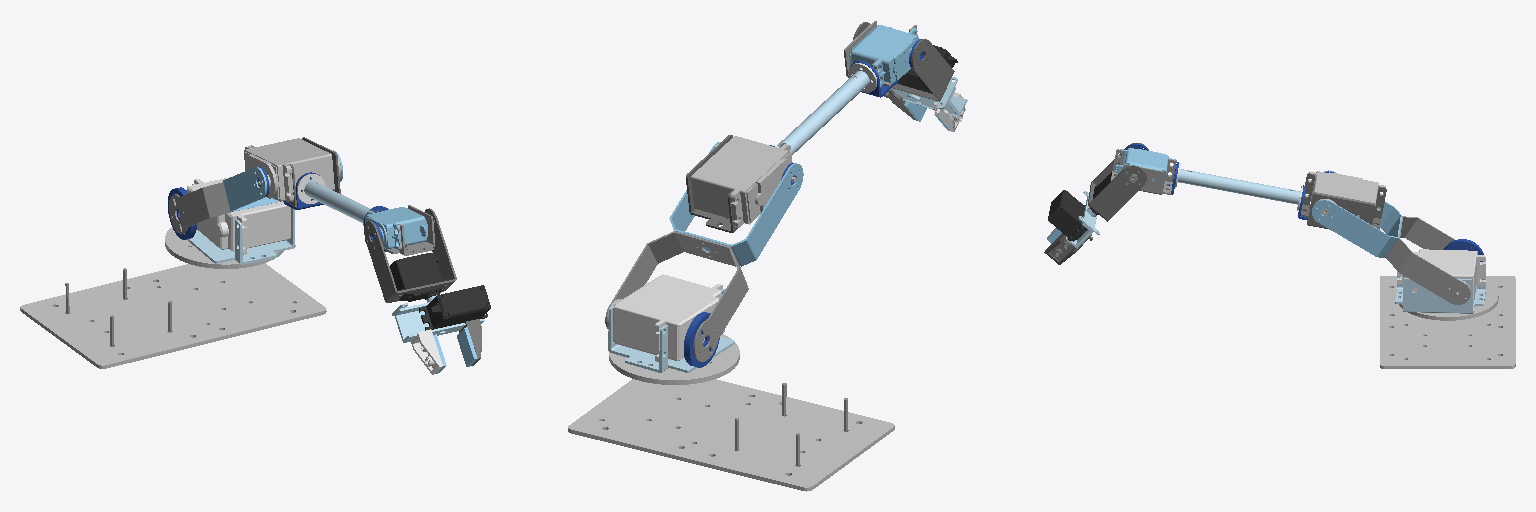
--- What the picture shows (computed from the rendered views, not written in the file) ---
The picture shows the robot from 3 angles, left to right: view 1: azimuth 30°, elevation 25°; view 2: azimuth 150°, elevation 25°; view 3: azimuth 270°, elevation 25°; orthographic projection.
Model onshape with 8 links and 7 joints (5 revolute, 2 prismatic), rooted at base_link, posed all joints at 0.
Links seen in each view (by area): view 1: base_link, elbow, shoulder, wrist, arm, hand, gripper_2, gripper_1; view 2: base_link, elbow, shoulder, arm, wrist, hand; view 3: base_link, elbow, arm, shoulder, wrist, hand, gripper_1.
Boxes of the visible links, bbox=[...] form: base_link: bbox=[20, 263, 326, 368]; elbow: bbox=[244, 137, 434, 255]; shoulder: bbox=[165, 177, 295, 268]; wrist: bbox=[364, 208, 456, 302]; arm: bbox=[168, 150, 342, 239]; hand: bbox=[392, 285, 490, 342]; gripper_2: bbox=[411, 329, 446, 374]; gripper_1: bbox=[457, 319, 481, 366]; base_link: bbox=[568, 379, 894, 491]; elbow: bbox=[686, 21, 918, 232]; shoulder: bbox=[608, 274, 739, 384]; arm: bbox=[605, 142, 803, 367]; wrist: bbox=[853, 22, 954, 101]; hand: bbox=[891, 45, 967, 117]; base_link: bbox=[1380, 276, 1515, 368]; elbow: bbox=[1111, 148, 1386, 229]; arm: bbox=[1312, 170, 1483, 304]; shoulder: bbox=[1395, 249, 1498, 320]; wrist: bbox=[1088, 143, 1148, 221]; hand: bbox=[1048, 190, 1099, 248]; gripper_1: bbox=[1044, 233, 1092, 264].
Bounding box of the posed robot: 0.202 × 0.4381 × 0.1912 m (x, y, z).
Meshes: 29 distinct files referenced, 37 mesh visuals loaded (28 binary STL); not drawn: 1 (reference not matched to a file when rendering).

URDF robot description (onshape):
<robot name="onshape">
	<link name="base_link">
		<visual>
			<origin xyz="0.129377 0.050859 -0.00371815" rpy="-4.77681e-10 -0.0043905 1.04863e-12" />
			<geometry>
				<mesh filename="package://urdf_tutorial/meshes/support-2.5.stl"/>
			</geometry>
			<material name="support-2.5_material">
				<color rgba="0.647059 0.647059 0.647059 1.0"/>
			</material>
		</visual>
		<collision>
			<origin xyz="0.129377 0.050859 -0.00371815" rpy="-4.77681e-10 -0.0043905 1.04863e-12" />
			<geometry>
				<mesh filename="package://urdf_tutorial/meshes/support-2.5.stl"/>
			</geometry>
			<material name="support-2.5_material">
				<color rgba="0.647059 0.647059 0.647059 1.0"/>
			</material>
		</collision>
		<visual>
			<origin xyz="0.129385 -0.017641 -0.00371812" rpy="-4.77681e-10 -0.0043905 1.04863e-12" />
			<geometry>
				<mesh filename="package://urdf_tutorial/meshes/support-2.5.stl"/>
			</geometry>
			<material name="support-2.5_material">
				<color rgba="0.647059 0.647059 0.647059 1.0"/>
			</material>
		</visual>
		<collision>
			<origin xyz="0.129385 -0.017641 -0.00371812" rpy="-4.77681e-10 -0.0043905 1.04863e-12" />
			<geometry>
				<mesh filename="package://urdf_tutorial/meshes/support-2.5.stl"/>
			</geometry>
			<material name="support-2.5_material">
				<color rgba="0.647059 0.647059 0.647059 1.0"/>
			</material>
		</collision>
		<visual>
			<origin xyz="0.0624688 0.148426 -0.00701195" rpy="-4.77681e-10 -0.0043905 1.04863e-12" />
			<geometry>
				<mesh filename="package://urdf_tutorial/meshes/base-plate.stl"/>
			</geometry>
			<material name="base-plate_material">
				<color rgba="0.8 0.8 0.8 1.0"/>
			</material>
		</visual>
		<collision>
			<origin xyz="0.0624688 0.148426 -0.00701195" rpy="-4.77681e-10 -0.0043905 1.04863e-12" />
			<geometry>
				<mesh filename="package://urdf_tutorial/meshes/base-plate.stl"/>
			</geometry>
			<material name="base-plate_material">
				<color rgba="0.8 0.8 0.8 1.0"/>
			</material>
		</collision>
		<visual>
			<origin xyz="0.0783857 -0.017641 -0.00394203" rpy="-4.77681e-10 -0.0043905 1.04863e-12" />
			<geometry>
				<mesh filename="package://urdf_tutorial/meshes/support-2.5.stl"/>
			</geometry>
			<material name="support-2.5_material">
				<color rgba="0.647059 0.647059 0.647059 1.0"/>
			</material>
		</visual>
		<collision>
			<origin xyz="0.0783857 -0.017641 -0.00394203" rpy="-4.77681e-10 -0.0043905 1.04863e-12" />
			<geometry>
				<mesh filename="package://urdf_tutorial/meshes/support-2.5.stl"/>
			</geometry>
			<material name="support-2.5_material">
				<color rgba="0.647059 0.647059 0.647059 1.0"/>
			</material>
		</collision>
		<visual>
			<origin xyz="0.0783779 0.0508616 -0.00394207" rpy="-4.77681e-10 -0.0043905 1.04863e-12" />
			<geometry>
				<mesh filename="package://urdf_tutorial/meshes/support-2.5.stl"/>
			</geometry>
			<material name="support-2.5_material">
				<color rgba="0.647059 0.647059 0.647059 1.0"/>
			</material>
		</visual>
		<collision>
			<origin xyz="0.0783779 0.0508616 -0.00394207" rpy="-4.77681e-10 -0.0043905 1.04863e-12" />
			<geometry>
				<mesh filename="package://urdf_tutorial/meshes/support-2.5.stl"/>
			</geometry>
			<material name="support-2.5_material">
				<color rgba="0.647059 0.647059 0.647059 1.0"/>
			</material>
		</collision>
		<visual>
			<origin xyz="0.0966582 -0.00779689 -0.00386181" rpy="1.5708 -0.0043905 1.04863e-12" />
			<geometry>
				<mesh filename="package://urdf_tutorial/meshes/br-ns-1.stl"/>
			</geometry>
			<material name="br-ns-1_material">
				<color rgba="0.917647 0.917647 0.917647 1.0"/>
			</material>
		</visual>
		<collision>
			<origin xyz="0.0966582 -0.00779689 -0.00386181" rpy="1.5708 -0.0043905 1.04863e-12" />
			<geometry>
				<mesh filename="package://urdf_tutorial/meshes/br-ns-1.stl"/>
			</geometry>
			<material name="br-ns-1_material">
				<color rgba="0.917647 0.917647 0.917647 1.0"/>
			</material>
		</collision>
		<inertial>
			<origin xyz="0.0862539 -0.00770233 0.0169319" rpy="0 0 0"/>
			<mass value="0.507728" />
			<inertia ixx="0.000663142" ixy="-2.83755e-06"  ixz="-0.000115853" iyy="0.00107904" iyz="-2.54152e-06" izz="0.00144317" />
		</inertial>
	</link>
	<link name="shoulder">
		<visual>
			<origin xyz="-0.0115013 0.0345591 -0.0296991" rpy="-3.14159 3.5506e-17 6.69028e-19" />
			<geometry>
				<mesh filename="package://urdf_tutorial/meshes/asb-201.stl"/>
			</geometry>
			<material name="asb-201_material">
				<color rgba="0.768627 0.886275 0.952941 1.0"/>
			</material>
		</visual>
		<collision>
			<origin xyz="-0.0115013 0.0345591 -0.0296991" rpy="-3.14159 3.5506e-17 6.69028e-19" />
			<geometry>
				<mesh filename="package://urdf_tutorial/meshes/asb-201.stl"/>
			</geometry>
			<material name="asb-201_material">
				<color rgba="0.768627 0.886275 0.952941 1.0"/>
			</material>
		</collision>
		<visual>
			<origin xyz="-0.0362093 0.0263471 -0.042939" rpy="1.5708 -1.27504e-16 1.5708" />
			<geometry>
				<mesh filename="package://urdf_tutorial/meshes/hs-805bb.stl"/>
			</geometry>
			<material name="hs-805bb_material">
				<color rgba="0.909804 0.909804 0.909804 1.0"/>
			</material>
		</visual>
		<collision>
			<origin xyz="-0.0362093 0.0263471 -0.042939" rpy="1.5708 -1.27504e-16 1.5708" />
			<geometry>
				<mesh filename="package://urdf_tutorial/meshes/hs-805bb.stl"/>
			</geometry>
			<material name="hs-805bb_material">
				<color rgba="0.909804 0.909804 0.909804 1.0"/>
			</material>
		</collision>
		<visual>
			<origin xyz="-2.77556e-17 -6.50521e-19 0.043307" rpy="-1.5708 -5.5768e-20 1.51857e-17" />
			<geometry>
				<mesh filename="package://urdf_tutorial/meshes/br-ns-2.stl"/>
			</geometry>
			<material name="br-ns-2_material">
				<color rgba="0.8 0.8 0.8 1.0"/>
			</material>
		</visual>
		<collision>
			<origin xyz="-2.77556e-17 -6.50521e-19 0.043307" rpy="-1.5708 -5.5768e-20 1.51857e-17" />
			<geometry>
				<mesh filename="package://urdf_tutorial/meshes/br-ns-2.stl"/>
			</geometry>
			<material name="br-ns-2_material">
				<color rgba="0.8 0.8 0.8 1.0"/>
			</material>
		</collision>
		<inertial>
			<origin xyz="-0.00194627 -0.000935653 -0.00405395" rpy="0 0 0"/>
			<mass value="0.287977" />
			<inertia ixx="0.000156044" ixy="-3.26542e-06"  ixz="-8.14834e-06" iyy="0.000160924" iyz="-2.16392e-06" izz="0.000302076" />
		</inertial>
	</link>
	<link name="arm">
		<visual>
			<origin xyz="-3.67761e-16 0.0639719 0.034306" rpy="-1.5708 -4.35975e-16 5.98102e-17" />
			<geometry>
				<mesh filename="package://urdf_tutorial/meshes/asb-202.stl"/>
			</geometry>
			<material name="asb-202_material">
				<color rgba="0.647059 0.647059 0.647059 1.0"/>
			</material>
		</visual>
		<collision>
			<origin xyz="-3.67761e-16 0.0639719 0.034306" rpy="-1.5708 -4.35975e-16 5.98102e-17" />
			<geometry>
				<mesh filename="package://urdf_tutorial/meshes/asb-202.stl"/>
			</geometry>
			<material name="asb-202_material">
				<color rgba="0.647059 0.647059 0.647059 1.0"/>
			</material>
		</collision>
		<visual>
			<origin xyz="9.71445e-17 1.2837e-16 0.071106" rpy="-1.5708 -1.5708 0" />
			<geometry>
				<mesh filename="package://urdf_tutorial/meshes/shoulder-horn.stl"/>
			</geometry>
			<material name="shoulder-horn_material">
				<color rgba="0.231373 0.380392 0.705882 1.0"/>
			</material>
		</visual>
		<collision>
			<origin xyz="9.71445e-17 1.2837e-16 0.071106" rpy="-1.5708 -1.5708 0" />
			<geometry>
				<mesh filename="package://urdf_tutorial/meshes/shoulder-horn.stl"/>
			</geometry>
			<material name="shoulder-horn_material">
				<color rgba="0.231373 0.380392 0.705882 1.0"/>
			</material>
		</collision>
		<visual>
			<origin xyz="1.38778e-17 0 -0.0015" rpy="-1.5708 -1.5708 0" />
			<geometry>
				<mesh filename="package://urdf_tutorial/meshes/panel-2.stl"/>
			</geometry>
			<material name="panel-2_material">
				<color rgba="0.8 0.8 0.8 1.0"/>
			</material>
		</visual>
		<collision>
			<origin xyz="1.38778e-17 0 -0.0015" rpy="-1.5708 -1.5708 0" />
			<geometry>
				<mesh filename="package://urdf_tutorial/meshes/panel-2.stl"/>
			</geometry>
			<material name="panel-2_material">
				<color rgba="0.8 0.8 0.8 1.0"/>
			</material>
		</collision>
		<visual>
			<origin xyz="0.0123063 0.0732524 0.0009685" rpy="3.14159 4.44977e-16 3.14159" />
			<geometry>
				<mesh filename="package://urdf_tutorial/meshes/asb-203.stl"/>
			</geometry>
			<material name="asb-203_material">
				<color rgba="0.615686 0.811765 0.929412 1.0"/>
			</material>
		</visual>
		<collision>
			<origin xyz="0.0123063 0.0732524 0.0009685" rpy="3.14159 4.44977e-16 3.14159" />
			<geometry>
				<mesh filename="package://urdf_tutorial/meshes/asb-203.stl"/>
			</geometry>
			<material name="asb-203_material">
				<color rgba="0.615686 0.811765 0.929412 1.0"/>
			</material>
		</collision>
		<visual>
			<origin xyz="-4.05231e-15 0.146277 0.0660687" rpy="1.5708 5.01771e-16 -3.14159" />
			<geometry>
				<mesh filename="package://urdf_tutorial/meshes/arm-horn.stl"/>
			</geometry>
			<material name="arm-horn_material">
				<color rgba="0.231373 0.380392 0.705882 1.0"/>
			</material>
		</visual>
		<collision>
			<origin xyz="-4.05231e-15 0.146277 0.0660687" rpy="1.5708 5.01771e-16 -3.14159" />
			<geometry>
				<mesh filename="package://urdf_tutorial/meshes/arm-horn.stl"/>
			</geometry>
			<material name="arm-horn_material">
				<color rgba="0.231373 0.380392 0.705882 1.0"/>
			</material>
		</collision>
		<inertial>
			<origin xyz="4.10817e-12 0.0597549 0.0409192" rpy="0 0 0"/>
			<mass value="0.05596" />
			<inertia ixx="0.000191971" ixy="-1.1249e-14"  ixz="-2.56258e-15" iyy="6.11521e-05" iyz="1.55625e-05" izz="0.000137269" />
		</inertial>
	</link>
	<link name="elbow">
		<visual>
			<origin xyz="-0.140995 -0.021336 -0.0321592" rpy="-1.7746e-16 2.26527e-17 6.1898e-16" />
			<geometry>
				<mesh filename="package://urdf_tutorial/meshes/asb-06.stl"/>
			</geometry>
			<material name="asb-06_material">
				<color rgba="0.231373 0.380392 0.705882 1.0"/>
			</material>
		</visual>
		<collision>
			<origin xyz="-0.140995 -0.021336 -0.0321592" rpy="-1.7746e-16 2.26527e-17 6.1898e-16" />
			<geometry>
				<mesh filename="package://urdf_tutorial/meshes/asb-06.stl"/>
			</geometry>
			<material name="asb-06_material">
				<color rgba="0.231373 0.380392 0.705882 1.0"/>
			</material>
		</collision>
		<visual>
			<origin xyz="-0.0220726 -0.01905 -0.003" rpy="-2.06035e-16 8.29434e-18 9.33089e-17" />
			<geometry>
				<mesh filename="package://urdf_tutorial/meshes/asb-204.stl"/>
			</geometry>
			<material name="asb-204_material">
				<color rgba="0.498039 0.498039 0.498039 1.0"/>
			</material>
		</visual>
		<collision>
			<origin xyz="-0.0220726 -0.01905 -0.003" rpy="-2.06035e-16 8.29434e-18 9.33089e-17" />
			<geometry>
				<mesh filename="package://urdf_tutorial/meshes/asb-204.stl"/>
			</geometry>
			<material name="asb-204_material">
				<color rgba="0.498039 0.498039 0.498039 1.0"/>
			</material>
		</collision>
		<visual>
			<origin xyz="0 2.77556e-17 -0.0015" rpy="-1.5708 -1.5708 0" />
			<geometry>
				<mesh filename="package://urdf_tutorial/meshes/panel-2.stl"/>
			</geometry>
			<material name="panel-2_material">
				<color rgba="0.8 0.8 0.8 1.0"/>
			</material>
		</visual>
		<collision>
			<origin xyz="0 2.77556e-17 -0.0015" rpy="-1.5708 -1.5708 0" />
			<geometry>
				<mesh filename="package://urdf_tutorial/meshes/panel-2.stl"/>
			</geometry>
			<material name="panel-2_material">
				<color rgba="0.8 0.8 0.8 1.0"/>
			</material>
		</collision>
		<visual>
			<origin xyz="-0.0251079 -0.0060198 -0.0321592" rpy="3.14159 1.5708 0" />
			<geometry>
				<mesh filename="package://urdf_tutorial/meshes/at-03.stl"/>
			</geometry>
			<material name="at-03_material">
				<color rgba="0.768627 0.886275 0.952941 1.0"/>
			</material>
		</visual>
		<collision>
			<origin xyz="-0.0251079 -0.0060198 -0.0321592" rpy="3.14159 1.5708 0" />
			<geometry>
				<mesh filename="package://urdf_tutorial/meshes/at-03.stl"/>
			</geometry>
			<material name="at-03_material">
				<color rgba="0.768627 0.886275 0.952941 1.0"/>
			</material>
		</collision>
		<visual>
			<origin xyz="-0.0219329 -0.0060198 -0.0321592" rpy="-1.5708 1.5708 0" />
			<geometry>
				<mesh filename="package://urdf_tutorial/meshes/hub-08.stl"/>
			</geometry>
			<material name="hub-08_material">
				<color rgba="0.917647 0.917647 0.917647 1.0"/>
			</material>
		</visual>
		<collision>
			<origin xyz="-0.0219329 -0.0060198 -0.0321592" rpy="-1.5708 1.5708 0" />
			<geometry>
				<mesh filename="package://urdf_tutorial/meshes/hub-08.stl"/>
			</geometry>
			<material name="hub-08_material">
				<color rgba="0.917647 0.917647 0.917647 1.0"/>
			</material>
		</collision>
		<visual>
			<origin xyz="-0.151124 0.00554557 -0.0162697" rpy="-1.5708 1.5708 0" />
			<geometry>
				<mesh filename="package://urdf_tutorial/meshes/elbow_hs-422.stl"/>
			</geometry>
			<material name="elbow_hs-422_material">
				<color rgba="0.611765 0.811765 0.921569 1.0"/>
			</material>
		</visual>
		<collision>
			<origin xyz="-0.151124 0.00554557 -0.0162697" rpy="-1.5708 1.5708 0" />
			<geometry>
				<mesh filename="package://urdf_tutorial/meshes/elbow_hs-422.stl"/>
			</geometry>
			<material name="elbow_hs-422_material">
				<color rgba="0.611765 0.811765 0.921569 1.0"/>
			</material>
		</collision>
		<visual>
			<origin xyz="-0.151123 0.0055458 -0.0161419" rpy="-1.5708 1.5708 0" />
			<geometry>
				<mesh filename="package://urdf_tutorial/meshes/motor-gear.stl"/>
			</geometry>
			<material name="motor-gear_material">
				<color rgba="0.917647 0.917647 0.917647 1.0"/>
			</material>
		</visual>
		<collision>
			<origin xyz="-0.151123 0.0055458 -0.0161419" rpy="-1.5708 1.5708 0" />
			<geometry>
				<mesh filename="package://urdf_tutorial/meshes/motor-gear.stl"/>
			</geometry>
			<material name="motor-gear_material">
				<color rgba="0.917647 0.917647 0.917647 1.0"/>
			</material>
		</collision>
		<visual>
			<origin xyz="-0.0235204 -0.021336 -0.0321592" rpy="-3.14159 -1.69693e-17 3.14159" />
			<geometry>
				<mesh filename="package://urdf_tutorial/meshes/asb-06.stl"/>
			</geometry>
			<material name="asb-06_material">
				<color rgba="0.231373 0.380392 0.705882 1.0"/>
			</material>
		</visual>
		<collision>
			<origin xyz="-0.0235204 -0.021336 -0.0321592" rpy="-3.14159 -1.69693e-17 3.14159" />
			<geometry>
				<mesh filename="package://urdf_tutorial/meshes/asb-06.stl"/>
			</geometry>
			<material name="asb-06_material">
				<color rgba="0.231373 0.380392 0.705882 1.0"/>
			</material>
		</collision>
		<visual>
			<origin xyz="-0.181889 -0.0047752 -0.0083594" rpy="3.14159 -1.5708 0" />
			<geometry>
				<mesh filename="package://urdf_tutorial/meshes/panel-1.stl"/>
			</geometry>
			<material name="panel-1_material">
				<color rgba="0.231373 0.380392 0.705882 1.0"/>
			</material>
		</visual>
		<collision>
			<origin xyz="-0.181889 -0.0047752 -0.0083594" rpy="3.14159 -1.5708 0" />
			<geometry>
				<mesh filename="package://urdf_tutorial/meshes/panel-1.stl"/>
			</geometry>
			<material name="panel-1_material">
				<color rgba="0.231373 0.380392 0.705882 1.0"/>
			</material>
		</collision>
		<visual>
			<origin xyz="-0.171958 -0.01905 -0.0267363" rpy="-1.78433e-16 2.26395e-17 6.46309e-16" />
			<geometry>
				<mesh filename="package://urdf_tutorial/meshes/asb-04.stl"/>
			</geometry>
			<material name="asb-04_material">
				<color rgba="0.647059 0.647059 0.647059 1.0"/>
			</material>
		</visual>
		<collision>
			<origin xyz="-0.171958 -0.01905 -0.0267363" rpy="-1.78433e-16 2.26395e-17 6.46309e-16" />
			<geometry>
				<mesh filename="package://urdf_tutorial/meshes/asb-04.stl"/>
			</geometry>
			<material name="asb-04_material">
				<color rgba="0.647059 0.647059 0.647059 1.0"/>
			</material>
		</collision>
		<visual>
			<origin xyz="0.0157732 1.27e-05 -0.0306998" rpy="3.14159 4.98931e-16 -1.5708" />
			<geometry>
				<mesh filename="package://urdf_tutorial/meshes/hs-645mg.stl"/>
			</geometry>
			<material name="hs-645mg_material">
				<color rgba="0.8 0.8 0.8 1.0"/>
			</material>
		</visual>
		<collision>
			<origin xyz="0.0157732 1.27e-05 -0.0306998" rpy="3.14159 4.98931e-16 -1.5708" />
			<geometry>
				<mesh filename="package://urdf_tutorial/meshes/hs-645mg.stl"/>
			</geometry>
			<material name="hs-645mg_material">
				<color rgba="0.8 0.8 0.8 1.0"/>
			</material>
		</collision>
		<visual>
			<origin xyz="-0.142583 -0.0060198 -0.0321592" rpy="1.5708 1.5708 0" />
			<geometry>
				<mesh filename="package://urdf_tutorial/meshes/hub-08.stl"/>
			</geometry>
			<material name="hub-08_material">
				<color rgba="0.917647 0.917647 0.917647 1.0"/>
			</material>
		</visual>
		<collision>
			<origin xyz="-0.142583 -0.0060198 -0.0321592" rpy="1.5708 1.5708 0" />
			<geometry>
				<mesh filename="package://urdf_tutorial/meshes/hub-08.stl"/>
			</geometry>
			<material name="hub-08_material">
				<color rgba="0.917647 0.917647 0.917647 1.0"/>
			</material>
		</collision>
		<inertial>
			<origin xyz="-0.0337839 -0.00178522 -0.0316901" rpy="0 0 0"/>
			<mass value="0.988791" />
			<inertia ixx="0.000274252" ixy="-0.000173704"  ixz="2.79546e-05" iyy="0.00692373" iyz="3.00662e-06" izz="0.00682311" />
		</inertial>
	</link>
	<link name="wrist">
		<visual>
			<origin xyz="0.047276 3.375e-05 0.0230885" rpy="-6.08266e-16 1.5708 0" />
			<geometry>
				<mesh filename="package://urdf_tutorial/meshes/hs-225mg.stl"/>
			</geometry>
			<material name="hs-225mg_material">
				<color rgba="0.25098 0.25098 0.25098 1.0"/>
			</material>
		</visual>
		<collision>
			<origin xyz="0.047276 3.375e-05 0.0230885" rpy="-6.08266e-16 1.5708 0" />
			<geometry>
				<mesh filename="package://urdf_tutorial/meshes/hs-225mg.stl"/>
			</geometry>
			<material name="hs-225mg_material">
				<color rgba="0.25098 0.25098 0.25098 1.0"/>
			</material>
		</collision>
		<visual>
			<origin xyz="0.049276 5.55112e-17 0.0230999" rpy="3.14159 1.5708 0" />
			<geometry>
				<mesh filename="package://urdf_tutorial/meshes/asb-26.stl"/>
			</geometry>
			<material name="asb-26_material">
				<color rgba="0.501961 0.501961 0.501961 1.0"/>
			</material>
		</visual>
		<collision>
			<origin xyz="0.049276 5.55112e-17 0.0230999" rpy="3.14159 1.5708 0" />
			<geometry>
				<mesh filename="package://urdf_tutorial/meshes/asb-26.stl"/>
			</geometry>
			<material name="asb-26_material">
				<color rgba="0.501961 0.501961 0.501961 1.0"/>
			</material>
		</collision>
		<visual>
			<origin xyz="-1.04083e-15 -5.55112e-17 0.0468298" rpy="-4.34694e-15 1.5708 0" />
			<geometry>
				<mesh filename="package://urdf_tutorial/meshes/bb-03.stl"/>
			</geometry>
			<material name="bb-03_material">
				<color rgba="0.647059 0.647059 0.647059 1.0"/>
			</material>
		</visual>
		<collision>
			<origin xyz="-1.04083e-15 -5.55112e-17 0.0468298" rpy="-4.34694e-15 1.5708 0" />
			<geometry>
				<mesh filename="package://urdf_tutorial/meshes/bb-03.stl"/>
			</geometry>
			<material name="bb-03_material">
				<color rgba="0.647059 0.647059 0.647059 1.0"/>
			</material>
		</collision>
		<visual>
			<origin xyz="-9.99201e-16 -5.55112e-17 0.0468298" rpy="1.3162e-15 -1.5708 0" />
			<geometry>
				<mesh filename="package://urdf_tutorial/meshes/panel-1.stl"/>
			</geometry>
			<material name="panel-1_material">
				<color rgba="0.231373 0.380392 0.705882 1.0"/>
			</material>
		</visual>
		<collision>
			<origin xyz="-9.99201e-16 -5.55112e-17 0.0468298" rpy="1.3162e-15 -1.5708 0" />
			<geometry>
				<mesh filename="package://urdf_tutorial/meshes/panel-1.stl"/>
			</geometry>
			<material name="panel-1_material">
				<color rgba="0.231373 0.380392 0.705882 1.0"/>
			</material>
		</collision>
		<visual>
			<origin xyz="-2.77556e-17 -5.55112e-17 -0.0015" rpy="-1.5708 3.33236e-19 2.47402e-18" />
			<geometry>
				<mesh filename="package://urdf_tutorial/meshes/arm-horn.stl"/>
			</geometry>
			<material name="arm-horn_material">
				<color rgba="0.231373 0.380392 0.705882 1.0"/>
			</material>
		</visual>
		<collision>
			<origin xyz="-2.77556e-17 -5.55112e-17 -0.0015" rpy="-1.5708 3.33236e-19 2.47402e-18" />
			<geometry>
				<mesh filename="package://urdf_tutorial/meshes/arm-horn.stl"/>
			</geometry>
			<material name="arm-horn_material">
				<color rgba="0.231373 0.380392 0.705882 1.0"/>
			</material>
		</collision>
		<inertial>
			<origin xyz="0.0371882 2.99797e-05 0.0234571" rpy="0 0 0"/>
			<mass value="0.154675" />
			<inertia ixx="2.65283e-05" ixy="-9.07924e-09"  ixz="1.70133e-07" iyy="4.52632e-05" iyz="3.61213e-10" izz="2.66908e-05" />
		</inertial>
	</link>
	<link name="hand">
		<visual>
			<origin xyz="0.0103124 0.0004318 -0.0163031" rpy="-3.14159 9.05092e-15 -7.19119e-15" />
			<geometry>
				<mesh filename="package://urdf_tutorial/meshes/hs-422.stl"/>
			</geometry>
			<material name="hs-422_material">
				<color rgba="0.25098 0.25098 0.25098 1.0"/>
			</material>
		</visual>
		<collision>
			<origin xyz="0.0103124 0.0004318 -0.0163031" rpy="-3.14159 9.05092e-15 -7.19119e-15" />
			<geometry>
				<mesh filename="package://urdf_tutorial/meshes/hs-422.stl"/>
			</geometry>
			<material name="hs-422_material">
				<color rgba="0.25098 0.25098 0.25098 1.0"/>
			</material>
		</collision>
		<visual>
			<origin xyz="0.007495 -5.55112e-17 -0.01259" rpy="-3.56478e-18 -4.42358e-18 -1.9427e-17" />
			<geometry>
				<mesh filename="package://urdf_tutorial/meshes/horn.stl"/>
			</geometry>
			<material name="horn_material">
				<color rgba="0.917647 0.917647 0.917647 1.0"/>
			</material>
		</visual>
		<collision>
			<origin xyz="0.007495 -5.55112e-17 -0.01259" rpy="-3.56478e-18 -4.42358e-18 -1.9427e-17" />
			<geometry>
				<mesh filename="package://urdf_tutorial/meshes/horn.stl"/>
			</geometry>
			<material name="horn_material">
				<color rgba="0.917647 0.917647 0.917647 1.0"/>
			</material>
		</collision>
		<visual>
			<origin xyz="-1.38778e-17 -0.0064008 -0.004327" rpy="7.39067e-15 1.5708 0" />
			<geometry>
				<mesh filename="package://urdf_tutorial/meshes/lg-ns.stl"/>
			</geometry>
			<material name="lg-ns_material">
				<color rgba="0.768627 0.886275 0.952941 1.0"/>
			</material>
		</visual>
		<collision>
			<origin xyz="-1.38778e-17 -0.0064008 -0.004327" rpy="7.39067e-15 1.5708 0" />
			<geometry>
				<mesh filename="package://urdf_tutorial/meshes/lg-ns.stl"/>
			</geometry>
			<material name="lg-ns_material">
				<color rgba="0.768627 0.886275 0.952941 1.0"/>
			</material>
		</collision>
		<inertial>
			<origin xyz="0.00960774 -0.0141472 -0.0162191" rpy="0 0 0"/>
			<mass value="0.240847" />
			<inertia ixx="3.5712e-05" ixy="2.38823e-06"  ixz="1.94278e-07" iyy="4.58615e-05" iyz="-3.46234e-07" izz="6.50569e-05" />
		</inertial>
	</link>
	<link name="gripper_2">
		<visual>
			<origin xyz="0.0032004 -0.000508 -0.003683" rpy="-7.33092e-18 2.74516e-18 2.93831e-17" />
			<geometry>
				<mesh filename="package://urdf_tutorial/meshes/left-finger.stl"/>
			</geometry>
			<material name="left-finger_material">
				<color rgba="0.917647 0.917647 0.917647 1.0"/>
			</material>
		</visual>
		<collision>
			<origin xyz="0.0032004 -0.000508 -0.003683" rpy="-7.33092e-18 2.74516e-18 2.93831e-17" />
			<geometry>
				<mesh filename="package://urdf_tutorial/meshes/left-finger.stl"/>
			</geometry>
			<material name="left-finger_material">
				<color rgba="0.917647 0.917647 0.917647 1.0"/>
			</material>
		</collision>
		<visual>
			<origin xyz="-0.00139907 -0.134736 -0.005715" rpy="-3.14159 1.24915e-15 3.14159" />
			<geometry>
				<mesh filename="package://urdf_tutorial/meshes/finger_sensor.stl"/>
			</geometry>
			<material name="finger_sensor_material">
				<color rgba="0.615686 0.811765 0.929412 1.0"/>
			</material>
		</visual>
		<collision>
			<origin xyz="-0.00139907 -0.134736 -0.005715" rpy="-3.14159 1.24915e-15 3.14159" />
			<geometry>
				<mesh filename="package://urdf_tutorial/meshes/finger_sensor.stl"/>
			</geometry>
			<material name="finger_sensor_material">
				<color rgba="0.615686 0.811765 0.929412 1.0"/>
			</material>
		</collision>
		<inertial>
			<origin xyz="0.0120044 0.0057694 -0.00312431" rpy="0 0 0"/>
			<mass value="0.00612803" />
			<inertia ixx="3.22025e-07" ixy="-8.1681e-08"  ixz="1.05444e-07" iyy="7.04545e-07" iyz="1.48751e-08" izz="8.67139e-07" />
		</inertial>
	</link>
	<joint name="gripper_1" type="prismatic">
		<origin xyz="-0.0189744 0.0064008 -0.0272124" rpy="-3.14159 1.5708 0" />
		<parent link="hand" />
		<child link="gripper_2" />
		<axis xyz="0 0 1"/>
		<limit effort="1" velocity="20" lower="-0.05" upper="0.05"/>
		<joint_properties friction="0.0"/>
	</joint>
	<link name="gripper_1">
		<visual>
			<origin xyz="0.0032004 -0.013462 -0.003683" rpy="-1.1719e-17 3.92532e-18 3.64581e-17" />
			<geometry>
				<mesh filename="package://urdf_tutorial/meshes/right-finger.stl"/>
			</geometry>
			<material name="right-finger_material">
				<color rgba="0.498039 0.498039 0.498039 1.0"/>
			</material>
		</visual>
		<collision>
			<origin xyz="0.0032004 -0.013462 -0.003683" rpy="-1.1719e-17 3.92532e-18 3.64581e-17" />
			<geometry>
				<mesh filename="package://urdf_tutorial/meshes/right-finger.stl"/>
			</geometry>
			<material name="right-finger_material">
				<color rgba="0.498039 0.498039 0.498039 1.0"/>
			</material>
		</collision>
		<visual>
			<origin xyz="0.0347548 -0.147534 -0.008715" rpy="2.96466e-15 1.04137e-13 -3.39025e-15" />
			<geometry>
				<mesh filename="package://urdf_tutorial/meshes/finger_sensor.stl"/>
			</geometry>
			<material name="finger_sensor_material">
				<color rgba="0.615686 0.811765 0.929412 1.0"/>
			</material>
		</visual>
		<collision>
			<origin xyz="0.0347548 -0.147534 -0.008715" rpy="2.96466e-15 1.04137e-13 -3.39025e-15" />
			<geometry>
				<mesh filename="package://urdf_tutorial/meshes/finger_sensor.stl"/>
			</geometry>
			<material name="finger_sensor_material">
				<color rgba="0.615686 0.811765 0.929412 1.0"/>
			</material>
		</collision>
		<inertial>
			<origin xyz="0.0119806 -0.00576922 -0.00312446" rpy="0 0 0"/>
			<mass value="0.00612793" />
			<inertia ixx="3.22007e-07" ixy="8.32603e-08"  ixz="1.06055e-07" iyy="7.11265e-07" iyz="-1.48845e-08" izz="8.73856e-07" />
		</inertial>
	</link>
	<joint name="gripper_2" type="prismatic">
		<origin xyz="0.0217646 0.0064008 -0.0272124" rpy="1.08934e-14 1.5708 0" />
		<parent link="hand" />
		<child link="gripper_1" />
		<axis xyz="0 0 1"/>
		<limit effort="1" velocity="20" lower="-0.05" upper="0.05"/>
		<joint_properties friction="0.0"/>
	</joint>
	<joint name="wrist_2" type="revolute">
		<origin xyz="0.056936 3.375e-05 0.0305835" rpy="1.5708 -1.54861 -1.5708" />
		<parent link="wrist" />
		<child link="hand" />
		<axis xyz="0 0 1"/>
		<limit effort="1000.0" lower="0.0" upper="3.14" velocity="0.5"/>
		<joint_properties friction="0.0"/>
	</joint>
	<joint name="wrist_1" type="revolute">
		<origin xyz="-0.180651 -0.0046142 -0.0542165" rpy="-1.52122e-16 -2.12933e-16 -2.12063" />
		<parent link="elbow" />
		<child link="wrist" />
		<axis xyz="0 0 1"/>
		<limit effort="1000.0" lower="0.0" upper="3.14" velocity="0.5"/>
		<joint_properties friction="0.0"/>
	</joint>
	<joint name="elbow" type="revolute">
		<origin xyz="-4.05231e-15 0.146277 0.0025433" rpy="-3.14159 1.57164e-15 -1.95055" />
		<parent link="arm" />
		<child link="elbow" />
		<axis xyz="0 0 1"/>
		<limit effort="1000.0" lower="0.0" upper="3.14" velocity="0.5"/>
		<joint_properties friction="0.0"/>
	</joint>
	<joint name="shoulder" type="revolute">
		<origin xyz="-0.0395013 0.0118691 -0.027953" rpy="-1.5708 -1.01511 -1.5708" />
		<parent link="shoulder" />
		<child link="arm" />
		<axis xyz="0 0 1"/>
		<limit effort="1000.0" lower="0.0" upper="3.14" velocity="0.5"/>
		<joint_properties friction="0.0"/>
	</joint>
	<joint name="base" type="revolute">
		<origin xyz="0.0964724 -0.00779689 0.0384542" rpy="3.14132 0.00438222 3.08016" />
		<parent link="base_link" />
		<child link="shoulder" />
		<axis xyz="0 0 1"/>
		<limit effort="1000.0" lower="0.0" upper="3.14" velocity="0.5"/>
		<joint_properties friction="0.0"/>
	</joint>
</robot>
